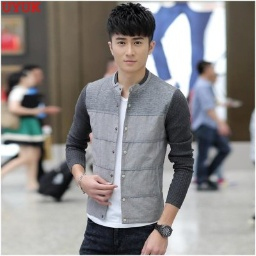face: (104, 4, 158, 79)
